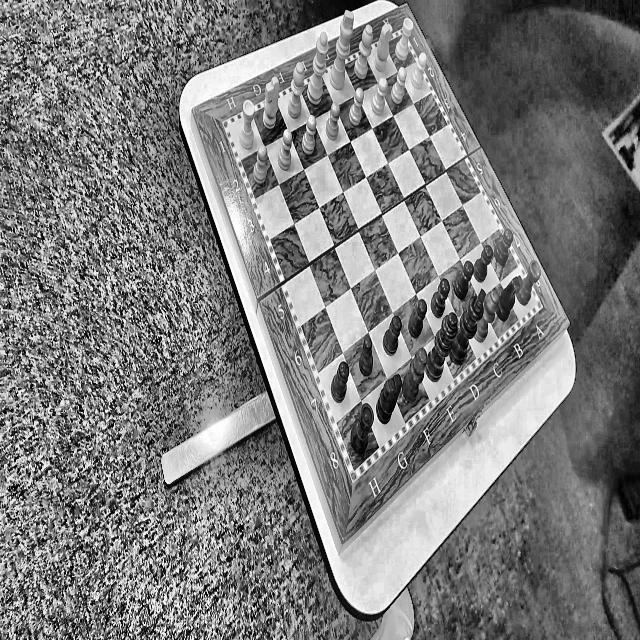chessboard: (229, 34, 536, 471)
